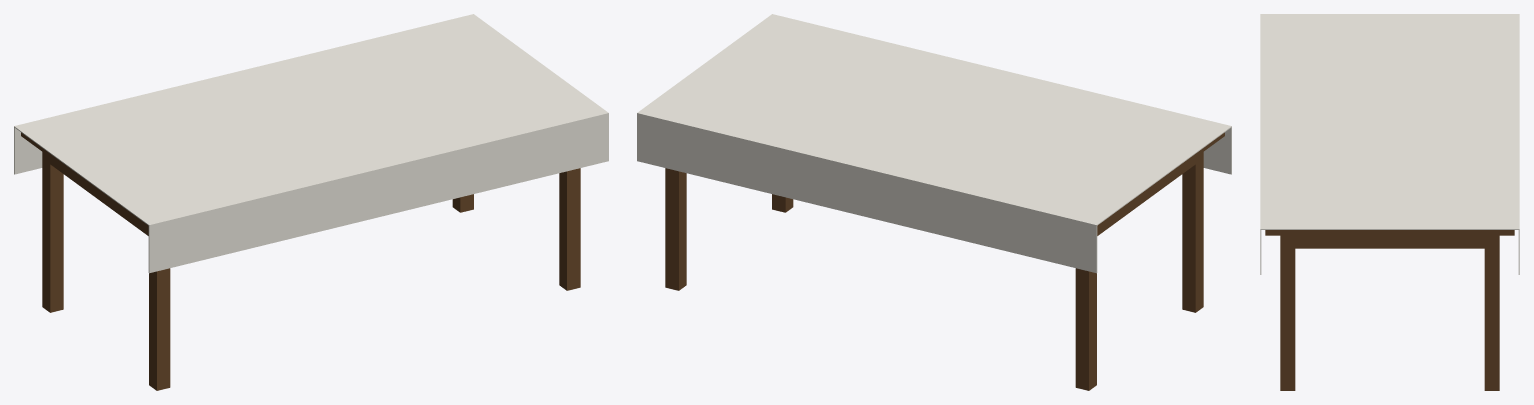
The picture shows the model from 3 angles, left to right: view 1: azimuth 30°, elevation 25°; view 2: azimuth 150°, elevation 25°; view 3: azimuth 270°, elevation 25°; orthographic projection. The views are drawn at different scales.
Visible parts, largest first — view 1: parametric-variant-table-1st-pub-41f1c3851195cf65b15f; view 2: parametric-variant-table-1st-pub-41f1c3851195cf65b15f; view 3: parametric-variant-table-1st-pub-41f1c3851195cf65b15f.
Part boxes in pixels (<box>): parametric-variant-table-1st-pub-41f1c3851195cf65b15f: <box>14,14,608,390</box>; parametric-variant-table-1st-pub-41f1c3851195cf65b15f: <box>637,14,1231,390</box>; parametric-variant-table-1st-pub-41f1c3851195cf65b15f: <box>1260,14,1519,390</box>.
Size of the model in its own units: 2.04 by 0.754 by 1.04.
